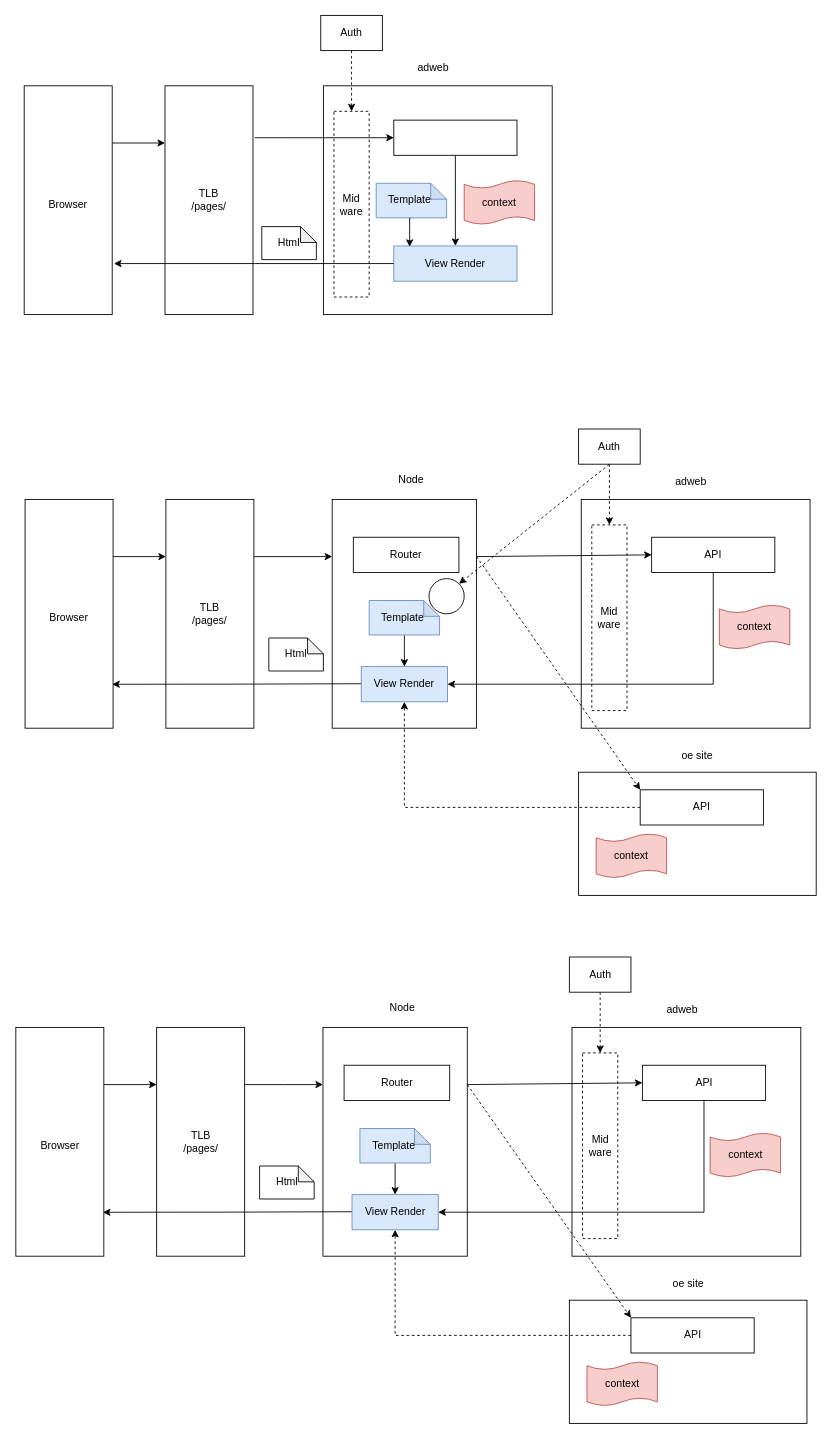
The diagram is 832 pixels wide and 1439 high, and some of its shapes have lost their labels. The shapes that lost their labels are listed below. From the top down, each one's box as (x1, y1, x2, y2) in pixels, then its label:
(393, 119, 517, 155): Controller
(428, 578, 464, 614): SDK
